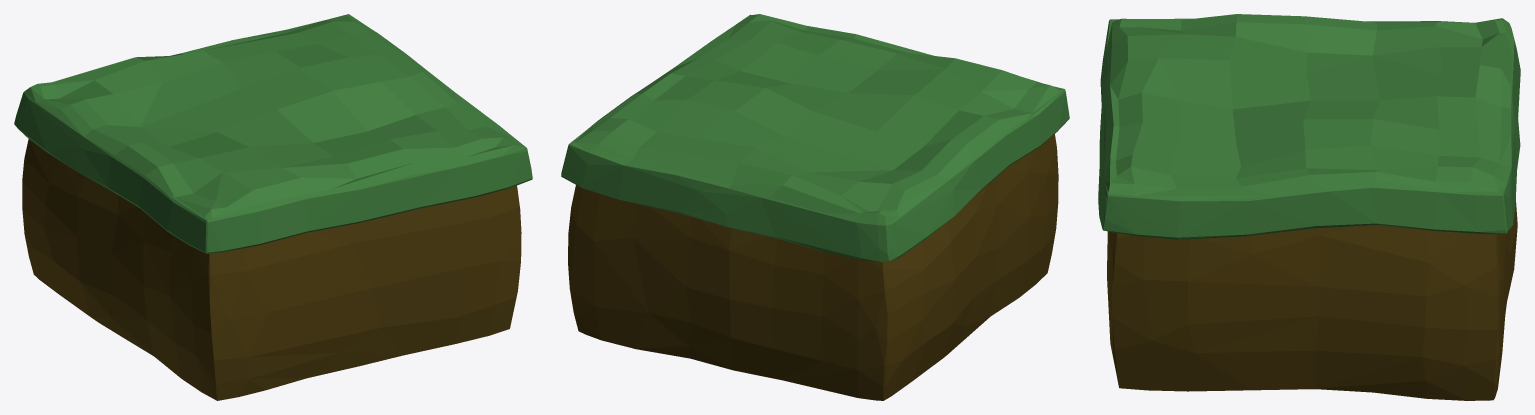
File: grassy ass.fbx
The picture shows the model from 3 angles, left to right: view 1: azimuth 30°, elevation 25°; view 2: azimuth 150°, elevation 25°; view 3: azimuth 270°, elevation 25°; orthographic projection. The views are drawn at different scales.
Parts seen in each view (by area): view 1: Cube.001, Cube; view 2: Cube.001, Cube; view 3: Cube.001, Cube.
Boxes of the visible parts, x1,y1,x2,y2 form: Cube.001: [14, 14, 532, 253]; Cube: [22, 139, 521, 400]; Cube.001: [561, 14, 1069, 261]; Cube: [568, 134, 1058, 400]; Cube.001: [1098, 14, 1520, 239]; Cube: [1107, 199, 1517, 400].
Size of the model in its own units: 239 by 139 by 233.
